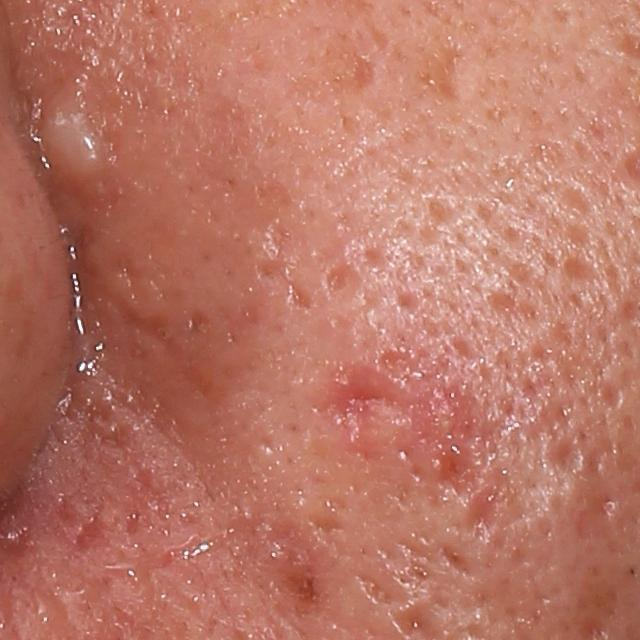atrophic_scar: (315, 370, 408, 450), (570, 492, 629, 558), (418, 36, 468, 104), (461, 483, 492, 545), (435, 536, 477, 579), (317, 264, 360, 302), (70, 513, 110, 552), (550, 437, 588, 474), (306, 513, 342, 549), (356, 575, 394, 607), (561, 256, 600, 286), (559, 186, 592, 221), (348, 52, 376, 93), (599, 377, 624, 414), (255, 258, 289, 285), (286, 280, 310, 313)
pustule: (36, 91, 121, 196)
